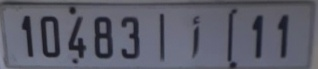0: (39, 12, 61, 61)
1: (17, 12, 38, 63), (274, 11, 293, 59), (248, 13, 268, 57)
3: (118, 16, 144, 60)
4: (66, 16, 89, 57)
8: (94, 15, 113, 58)
a: (191, 12, 202, 61)
